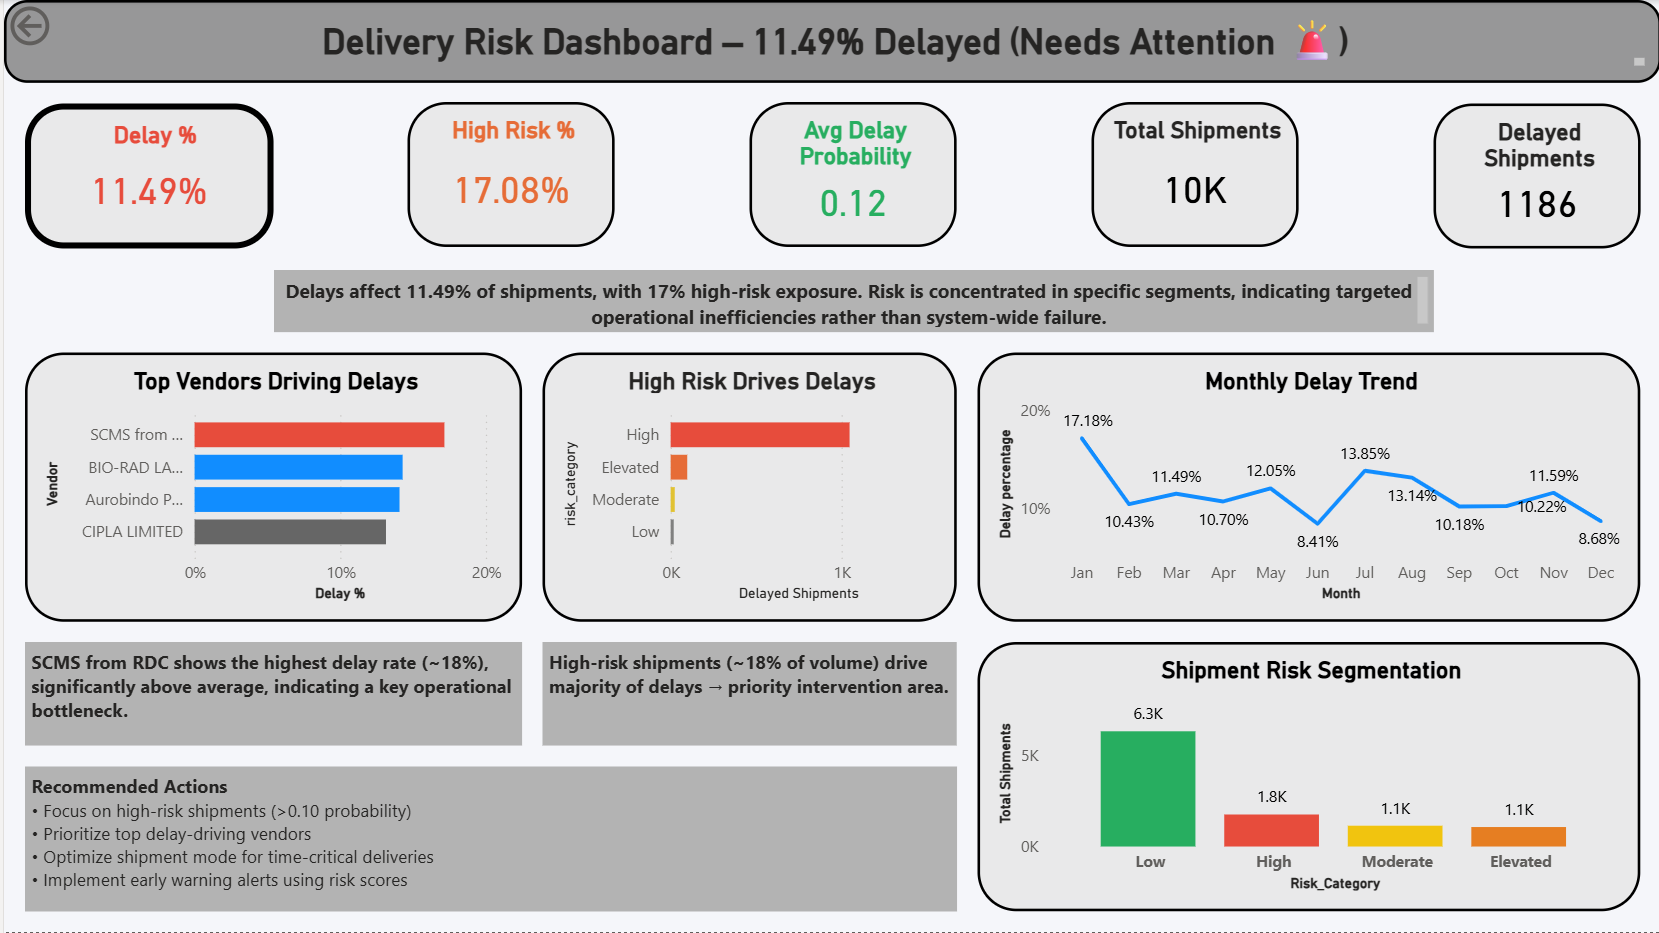

The dashboard page shown, as its layout file describes it:
{"tool":"powerbi","page":{"name":"RiskOverview","canvas":[1280,720],"ordinal":0},"visuals":[{"type":"textbox","box":[0,0,1280,64],"z":0},{"type":"card","title":"High Risk %","fields":{"Values":["final_dashboard_data.High Risk %"]},"box":[312,78.5,160,112],"z":1000},{"type":"card","title":"Total Shipments","fields":{"Values":["final_dashboard_data.Total Shipments"]},"box":[840,78.5,160,112],"z":2000},{"type":"clusteredColumnChart","title":"Shipment Risk Segmentation","fields":{"Category":["final_dashboard_data.risk_category"],"Y":["CountNonNull(final_dashboard_data.Vendor)"]},"box":[752,496,512,208],"z":3000},{"type":"lineChart","title":"Monthly Delay Trend","fields":{"Category":["final_dashboard_data.month_name"],"Y":["final_dashboard_data.Delay % by Month"]},"box":[752,272,512,208],"z":4000},{"type":"card","title":"Avg Delay Probability","fields":{"Values":["final_dashboard_data.Avg Delay Probability"]},"box":[576,78.5,160,112],"z":5000},{"type":"card","title":"Delay %","fields":{"Values":["final_dashboard_data.Delay %"]},"box":[16,80,192,112],"z":6000},{"type":"textbox","box":[208,208,896,48],"z":7000},{"type":"barChart","title":"Top Vendors Driving Delays","fields":{"Category":["final_dashboard_data.Vendor"],"Y":["final_dashboard_data.Delay %"]},"box":[16,272,384,208],"z":8000},{"type":"textbox","box":[16,496,384,80],"z":9000},{"type":"actionButton","box":[0,0,100,40],"z":10000},{"type":"barChart","title":"High Risk Drives Delays","fields":{"Category":["final_dashboard_data.risk_category"],"Y":["RiskTable.Delayed Shipments"]},"box":[416,272,320,208],"z":11000},{"type":"textbox","box":[416,496,320,80],"z":12000},{"type":"card","title":"Delayed Shipments","fields":{"Values":["RiskTable.Delayed Shipments"]},"box":[1104,80,160,112],"z":13000},{"type":"textbox","box":[16,592,720,112],"z":14000}]}

Visuals, with their boxes in screenshot pixels (x1, y1, x2, y2), scaled from the page's 1280x720 canvas onto the 1659x933 screenshot:
textbox: <bbox>0, 0, 1658, 83</bbox>
"High Risk %" card: <bbox>404, 102, 612, 247</bbox>
"Total Shipments" card: <bbox>1089, 102, 1296, 247</bbox>
"Shipment Risk Segmentation" clusteredColumnChart: <bbox>975, 643, 1638, 912</bbox>
"Monthly Delay Trend" lineChart: <bbox>975, 352, 1638, 622</bbox>
"Avg Delay Probability" card: <bbox>747, 102, 954, 247</bbox>
"Delay %" card: <bbox>21, 104, 270, 249</bbox>
textbox: <bbox>270, 270, 1431, 332</bbox>
"Top Vendors Driving Delays" barChart: <bbox>21, 352, 518, 622</bbox>
textbox: <bbox>21, 643, 518, 746</bbox>
actionButton: <bbox>0, 0, 130, 52</bbox>
"High Risk Drives Delays" barChart: <bbox>539, 352, 954, 622</bbox>
textbox: <bbox>539, 643, 954, 746</bbox>
"Delayed Shipments" card: <bbox>1431, 104, 1638, 249</bbox>
textbox: <bbox>21, 767, 954, 912</bbox>
